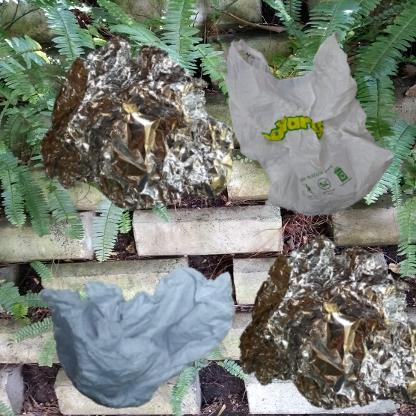aluminio: (10, 10, 262, 258), (213, 213, 416, 416)
bolsa: (213, 10, 416, 246)
papel: (10, 213, 269, 416)
